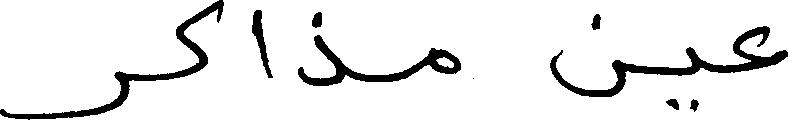X: (551, 9, 626, 101), (0, 66, 129, 119), (297, 7, 343, 90), (178, 0, 221, 82), (732, 21, 787, 77), (252, 5, 270, 82), (430, 43, 460, 78), (687, 42, 698, 116)
